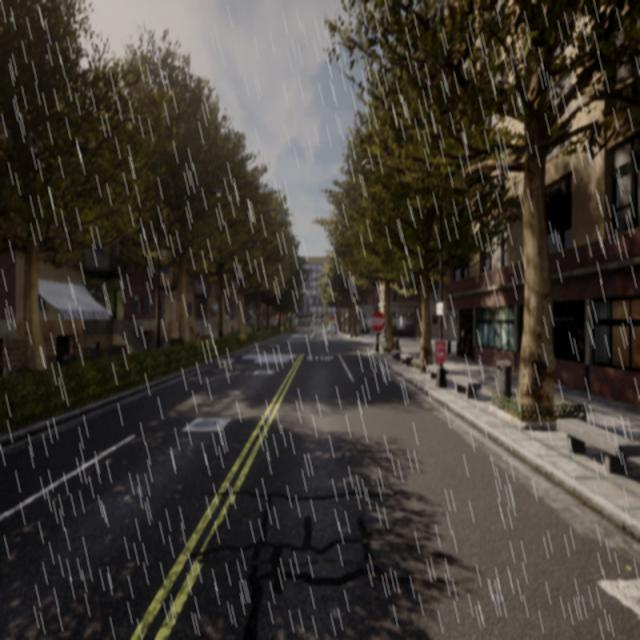stop sign: (369, 307, 386, 334)
